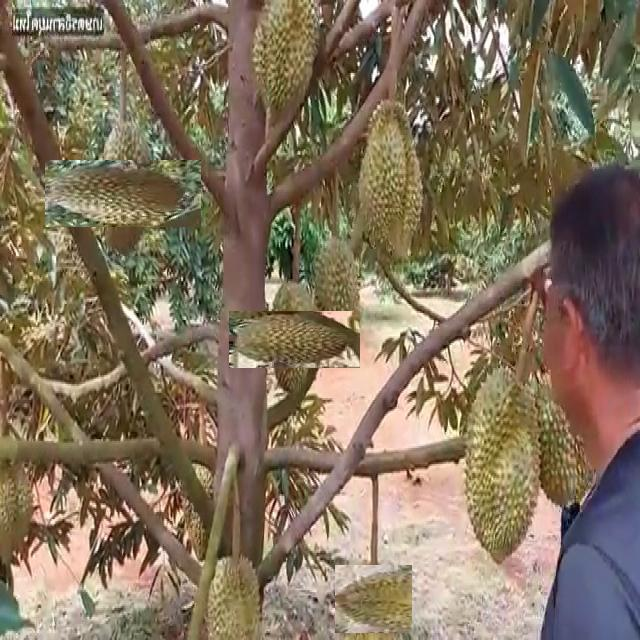durian: (461, 360, 546, 566), (352, 96, 426, 272), (68, 137, 179, 250), (527, 373, 599, 516), (250, 0, 326, 120), (247, 292, 342, 388), (314, 232, 364, 374), (338, 563, 410, 636), (206, 548, 264, 638)
